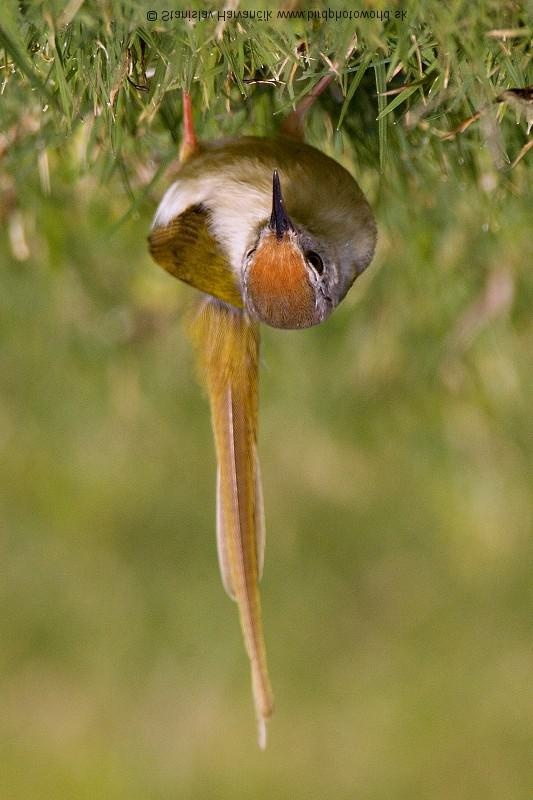tailorbird: (136, 63, 384, 794)
